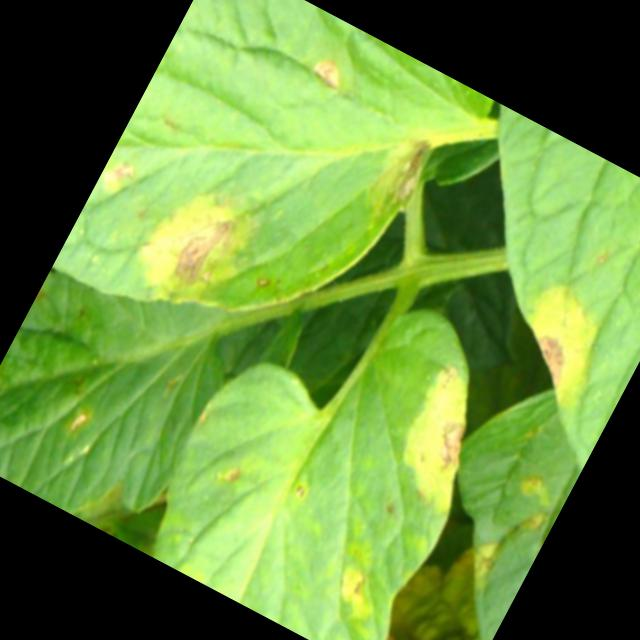Early_blight: (129, 181, 255, 314), (373, 131, 437, 214), (504, 321, 577, 390), (420, 415, 478, 483), (328, 565, 378, 616), (99, 151, 143, 194), (303, 52, 349, 93), (461, 542, 501, 584), (428, 359, 462, 396)
